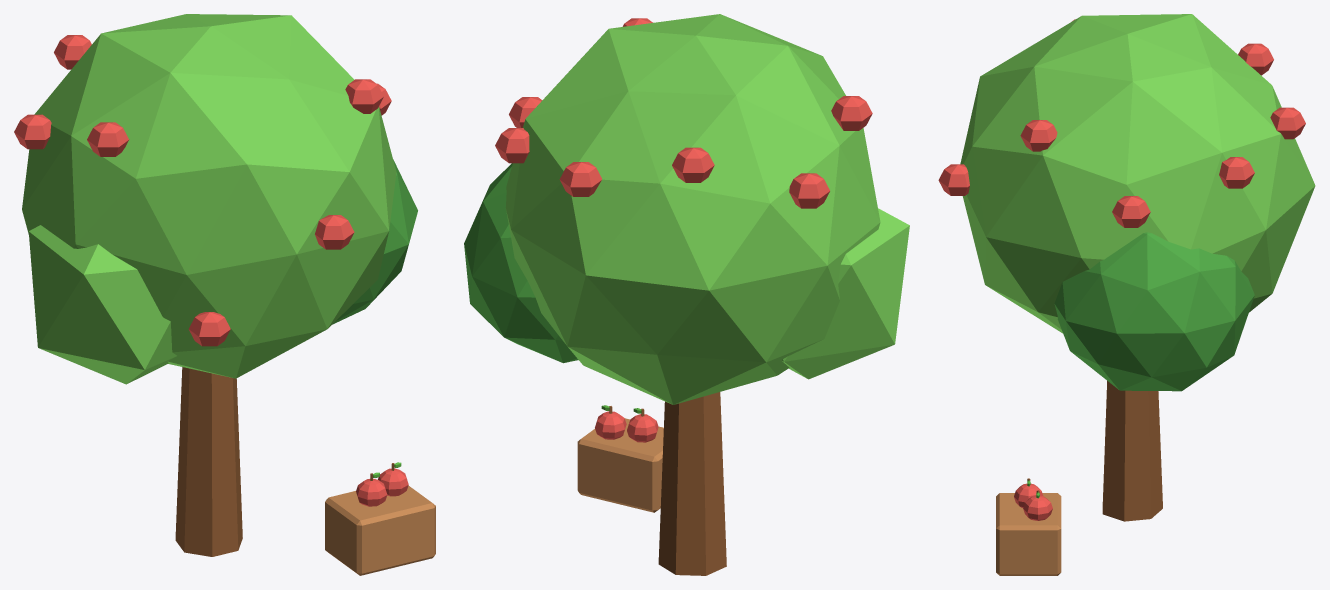
Rendered from station_apple_tree.glb.
The picture shows the model from 3 angles, left to right: view 1: azimuth 30°, elevation 25°; view 2: azimuth 150°, elevation 25°; view 3: azimuth 270°, elevation 25°; orthographic projection. The views are drawn at different scales.
Parts seen in each view (by area): view 1: station_apple_tree, station_apple_tree_apples; view 2: station_apple_tree, station_apple_tree_apples; view 3: station_apple_tree, station_apple_tree_apples.
Part boxes in pixels (<box>): station_apple_tree: <box>22,14,435,575</box>; station_apple_tree_apples: <box>14,35,391,346</box>; station_apple_tree: <box>464,14,909,575</box>; station_apple_tree_apples: <box>495,18,872,208</box>; station_apple_tree: <box>960,14,1315,575</box>; station_apple_tree_apples: <box>938,19,1305,227</box>.
Size of the model in its own units: 2.19 by 2.8 by 2.02.
